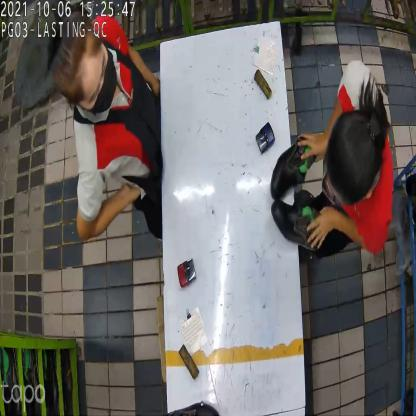shoes: (273, 135, 318, 249)
stamp: (256, 121, 276, 156), (177, 258, 195, 288)
